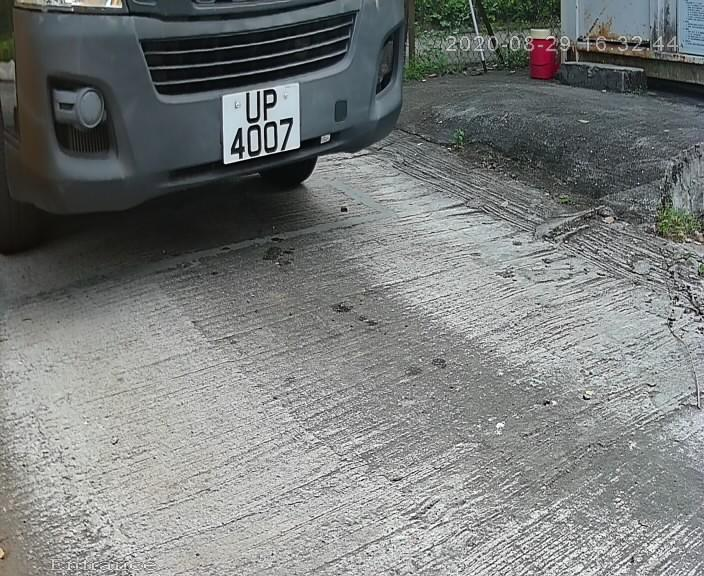Car: (10, 3, 437, 283)
License Plate: (208, 75, 312, 175)
